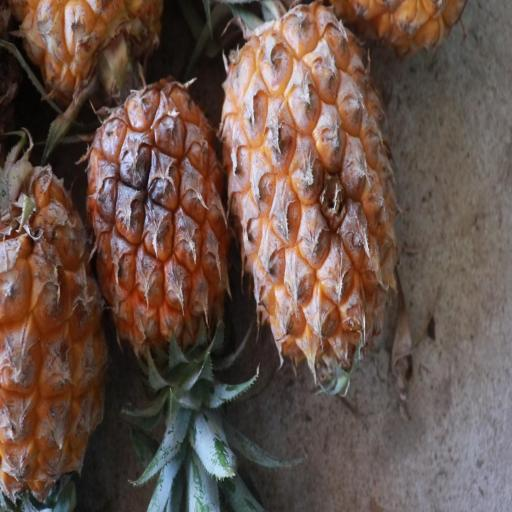Pineapple - v8 v1: (212, 0, 404, 375), (86, 76, 238, 380), (1, 154, 96, 512), (3, 492, 6, 497)
